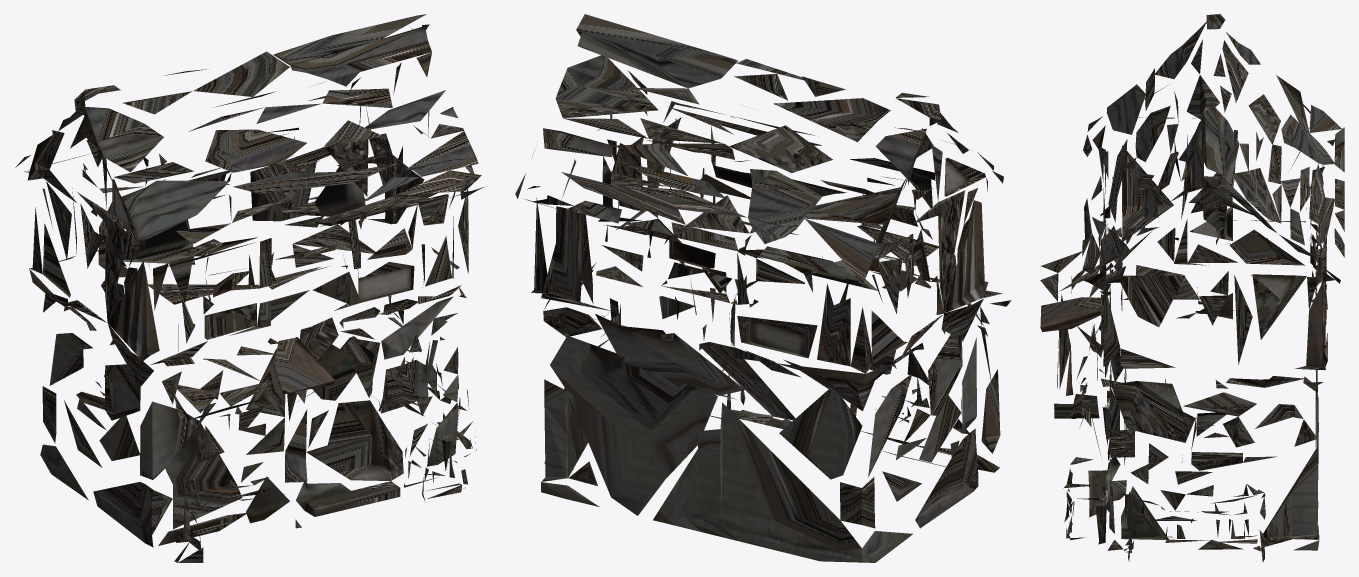
Rendered from bld_ws_weaver_a_LOD2.glb.
3 views of the same model, side by side, from view 1: azimuth 30°, elevation 25°; view 2: azimuth 150°, elevation 25°; view 3: azimuth 270°, elevation 25° (orthographic). The views are drawn at different scales.
Parts seen in each view (by area): view 1: geometry_0; view 2: geometry_0; view 3: geometry_0.
Boxes of the visible parts, bbox=[...] form: geometry_0: bbox=[15, 14, 485, 562]; geometry_0: bbox=[515, 14, 1011, 562]; geometry_0: bbox=[1040, 14, 1344, 562].
Size of the model in its own units: 5.38 by 6 by 4.22.
1 material, 1 textured.
